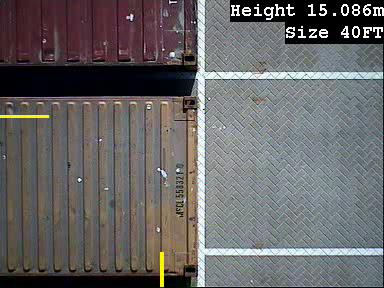groundmarker_2: (179, 141, 272, 256)
